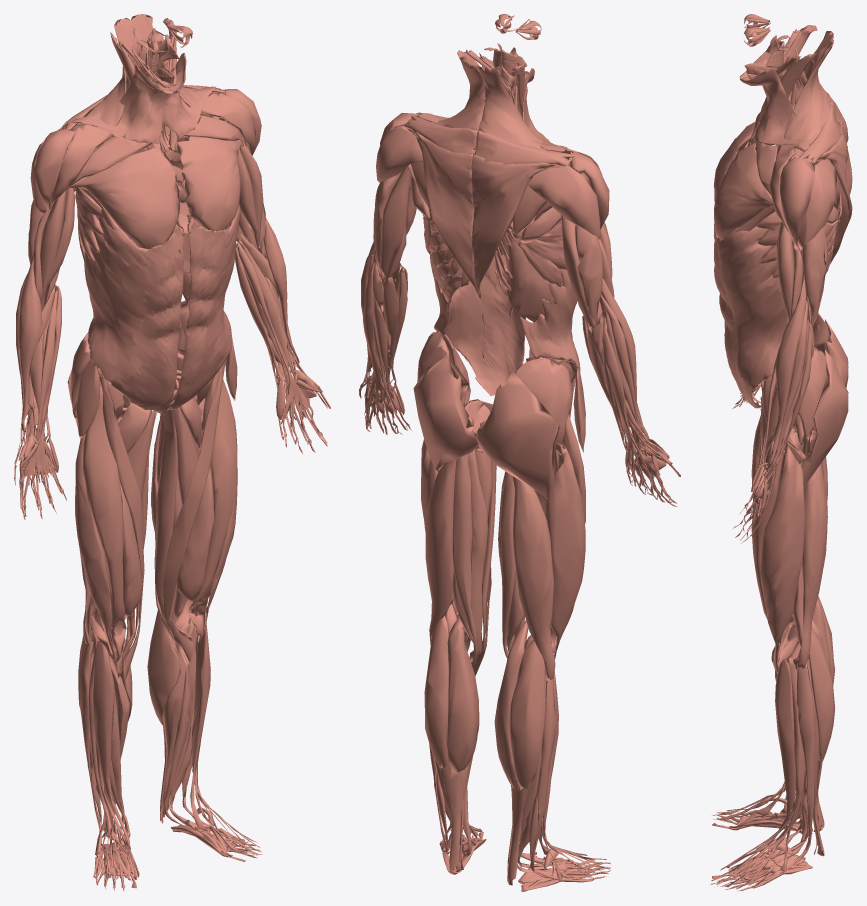
File: muscular.glb
3 views of the same model, side by side, from view 1: azimuth 30°, elevation 25°; view 2: azimuth 150°, elevation 25°; view 3: azimuth 270°, elevation 25° (orthographic).
Parts seen in each view (by area): view 1: FJ1452, FJ1452M, FJ1464, FJ1433, FJ1464M, FJ1433M, FJ1434M, FJ1442, FJ1587, FJ1421M, FJ1434, FJ1439 (+44 smaller); view 2: FJ1452M, FJ1418, FJ1395, FJ1442, FJ1520M, FJ1520, FJ1418M, FJ1394, FJ1395M, FJ1397M, FJ1452, FJ3131 (+40 smaller); view 3: FJ1452M, FJ1442M, FJ1395M, FJ1464M, FJ1418M, FJ1439M, FJ1558, FJ1521M, FJ1487M, FJ1394M, FJ1467M, FJ1410M (+38 smaller).
Part boxes in pixels (x1,y1,x2,y2): FJ1452: (84, 216, 183, 412); FJ1452M: (168, 204, 240, 409); FJ1464: (69, 146, 180, 249); FJ1433: (82, 381, 126, 661); FJ1464M: (177, 137, 241, 231); FJ1433M: (189, 370, 237, 642); FJ1434M: (163, 360, 225, 664); FJ1442: (75, 434, 115, 660); FJ1587: (71, 64, 175, 144); FJ1421M: (155, 407, 191, 640); FJ1434: (99, 375, 144, 679); FJ1439: (93, 642, 130, 849); FJ1452M: (430, 232, 525, 396); FJ1418: (476, 371, 560, 498); FJ1395: (512, 476, 555, 679); FJ1442: (545, 443, 585, 658); FJ1520M: (414, 131, 481, 298); FJ1520: (471, 153, 556, 298); FJ1418M: (413, 355, 477, 471); FJ1394: (509, 640, 545, 789); FJ1395M: (425, 459, 456, 644); FJ1397M: (446, 617, 479, 774); FJ1452: (520, 268, 580, 379); FJ3131: (437, 232, 562, 321); FJ1452M: (714, 226, 787, 408); FJ1442M: (760, 442, 805, 671); FJ1395M: (797, 463, 827, 669); FJ1464M: (714, 142, 773, 238); FJ1418M: (801, 350, 848, 486); FJ1439M: (756, 659, 795, 851); FJ1558: (739, 69, 809, 150); FJ1521M: (784, 40, 833, 146); FJ1487M: (768, 275, 806, 463); FJ1394M: (793, 621, 835, 762); FJ1467M: (780, 156, 814, 241); FJ1410M: (763, 663, 814, 866).
Size of the model in its own units: 0.6386 by 1.61 by 0.2509.
